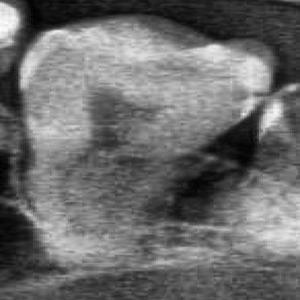tooth: (18, 15, 272, 263)
